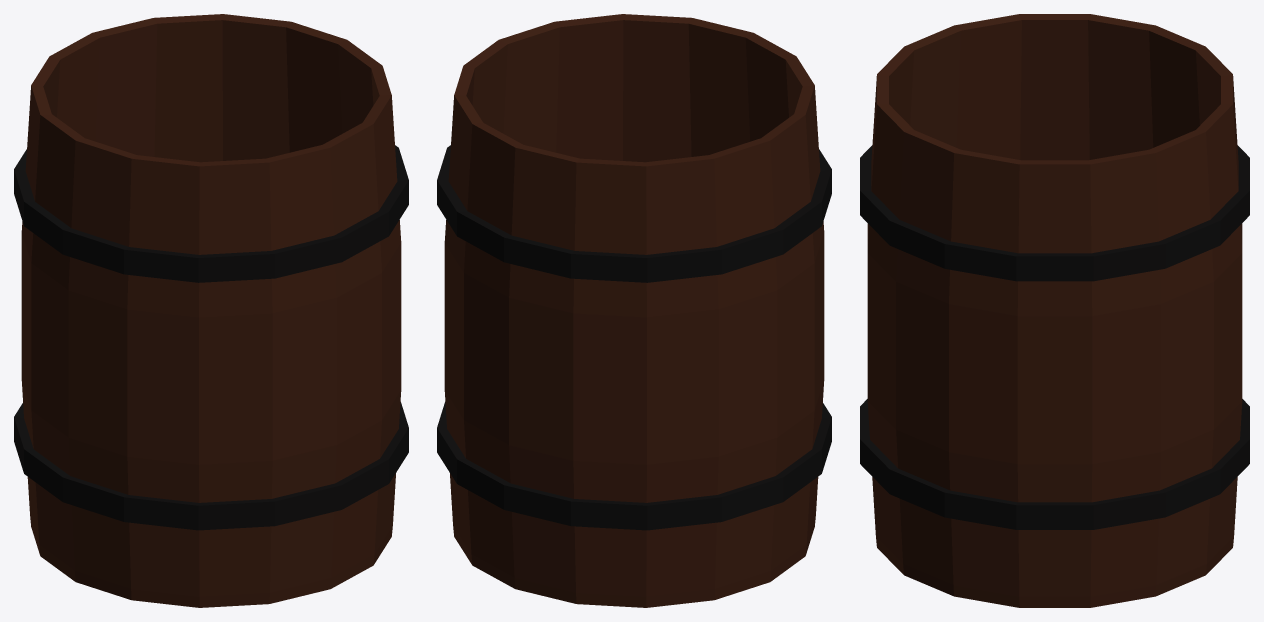
Rendered from Barrel.fbx.
3 renders of one model, left to right at view 1: azimuth 30°, elevation 25°; view 2: azimuth 150°, elevation 25°; view 3: azimuth 270°, elevation 25°, orthographic.
Visible parts, largest first — view 1: Barrel; view 2: Barrel; view 3: Barrel.
Boxes of the visible parts, x1=… form: Barrel: x1=14, y1=14, x2=408, y2=607; Barrel: x1=437, y1=14, x2=831, y2=607; Barrel: x1=860, y1=14, x2=1249, y2=607.
Bounding box in the file's own units: 75.77 × 95.09 × 75.77.
